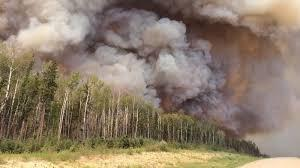yanwu: (1, 1, 297, 129)
